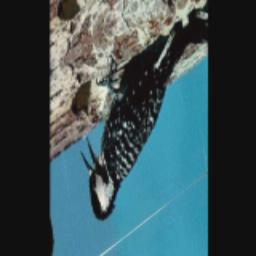Woodpecker: (68, 0, 204, 240)
